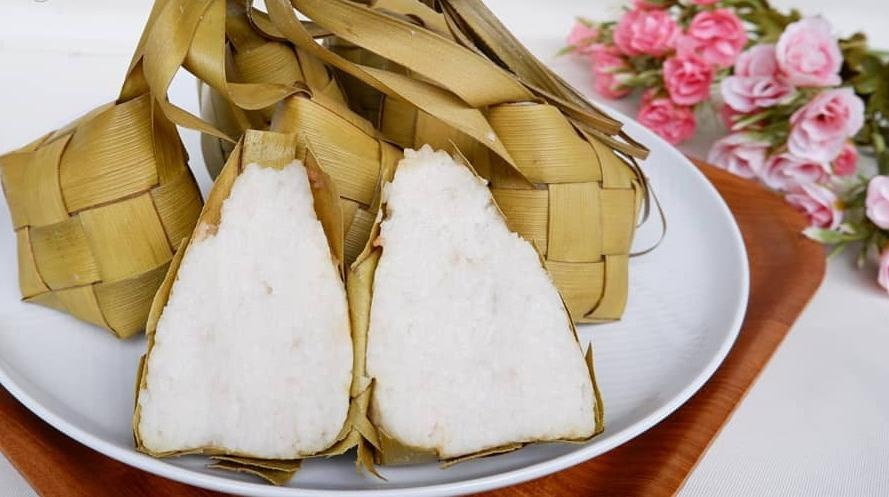ketupat: (1, 96, 209, 341)
